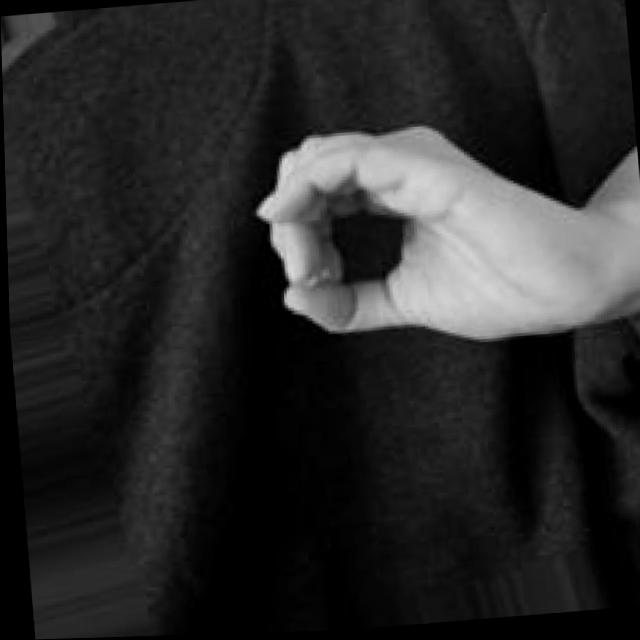O: (246, 100, 584, 367)
